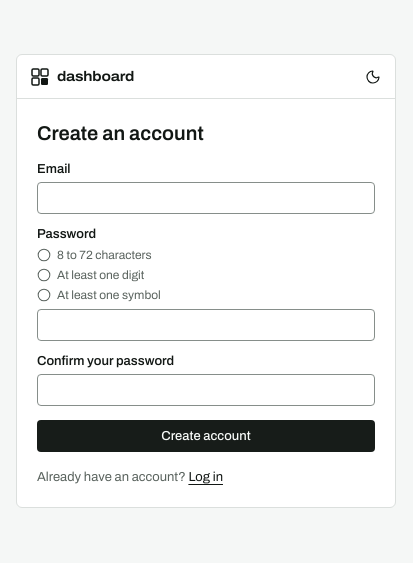
Test: RegisterPage › shows email-in-use as a destructive alert with a way to log in
Type "ada@example.com" into the field labelled "Email".
click(206, 198); type("ada@example.com")  # box x1=37 y1=182 x2=375 y2=214
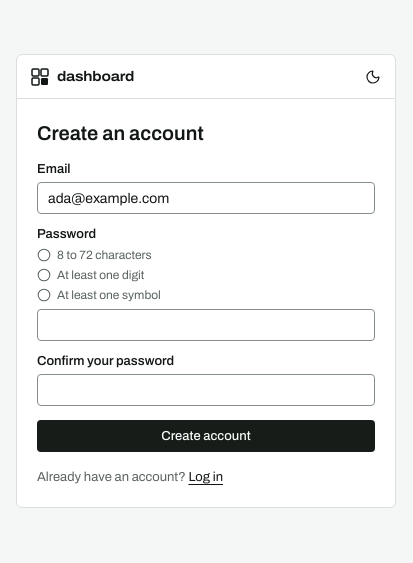
Type "correct-horse-1!" into the password field labelled "Password".
click(206, 325); type("correct-horse-1!")  # box x1=37 y1=309 x2=375 y2=341
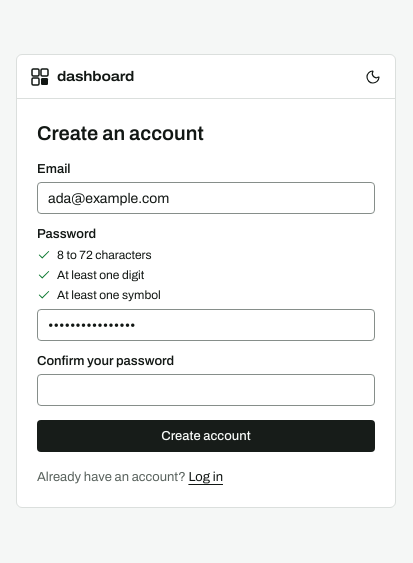
Type "correct-horse-1!" into the password field labelled "Confirm your password".
click(206, 390); type("correct-horse-1!")  # box x1=37 y1=374 x2=375 y2=406
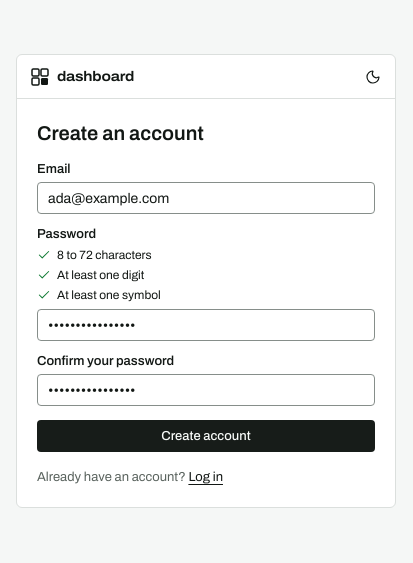
Click the button "Create account".
click(206, 436)  # box x1=37 y1=420 x2=375 y2=452
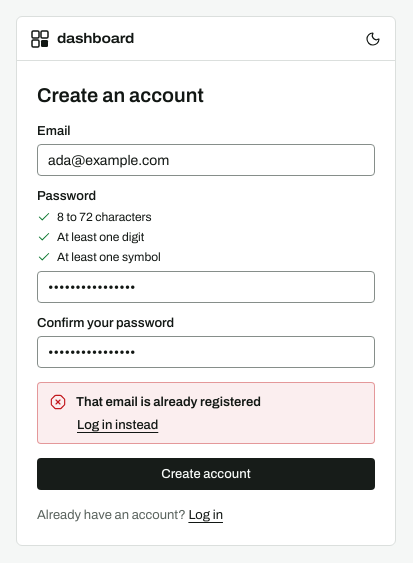
Expected: the message shows "That email is already registered", x1=76 y1=395 x2=261 y2=409
Click the link "Log in instead".
click(118, 426)  # box x1=76 y1=418 x2=159 y2=433
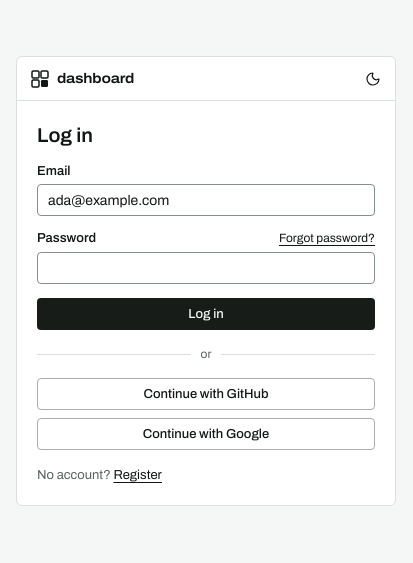
Expected: the field labelled "Email" holds "ada@example.com", x1=37 y1=184 x2=375 y2=216
Expected: the heading "Log in" is shown, x1=37 y1=124 x2=93 y2=146
